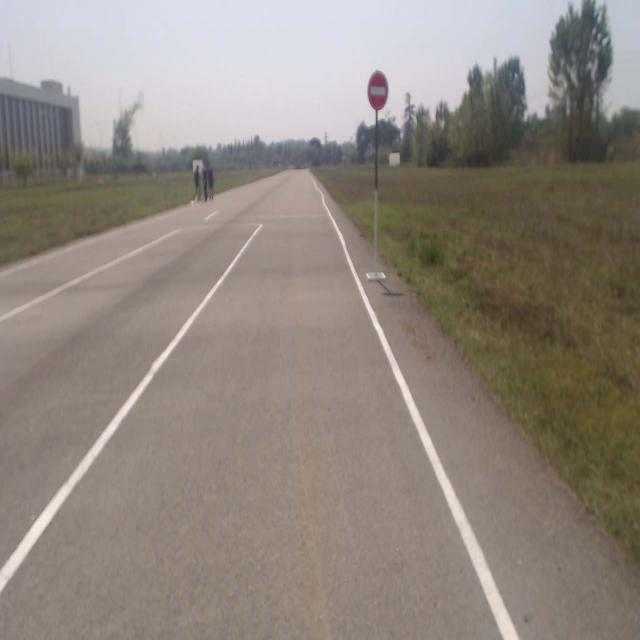girisyok: (368, 72, 388, 109)
